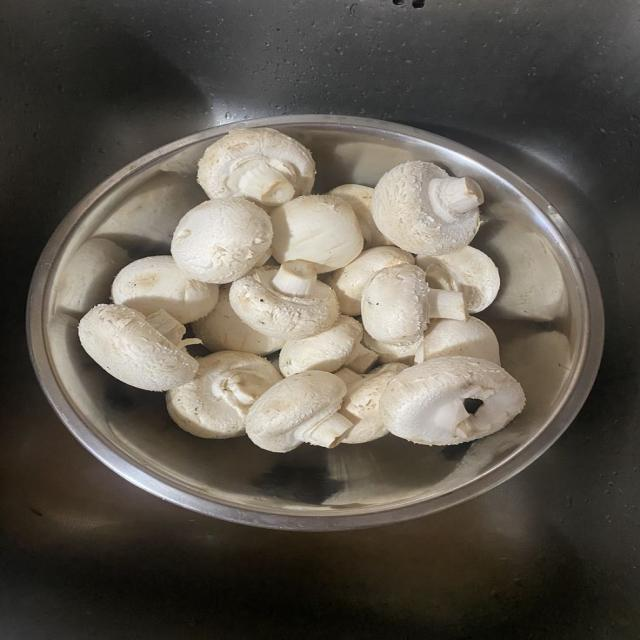champignon mushrooms: (380, 357, 525, 445), (372, 161, 483, 255), (79, 305, 198, 391), (167, 351, 281, 438), (198, 128, 314, 206), (246, 371, 353, 452), (172, 198, 273, 283), (230, 261, 339, 339), (362, 264, 467, 343), (112, 256, 218, 323), (271, 196, 363, 273), (192, 286, 285, 355), (327, 246, 414, 315), (280, 316, 376, 376), (337, 363, 406, 444), (416, 246, 499, 313), (328, 184, 392, 248), (415, 318, 499, 364), (147, 310, 201, 347), (363, 332, 421, 364), (346, 344, 378, 373)
